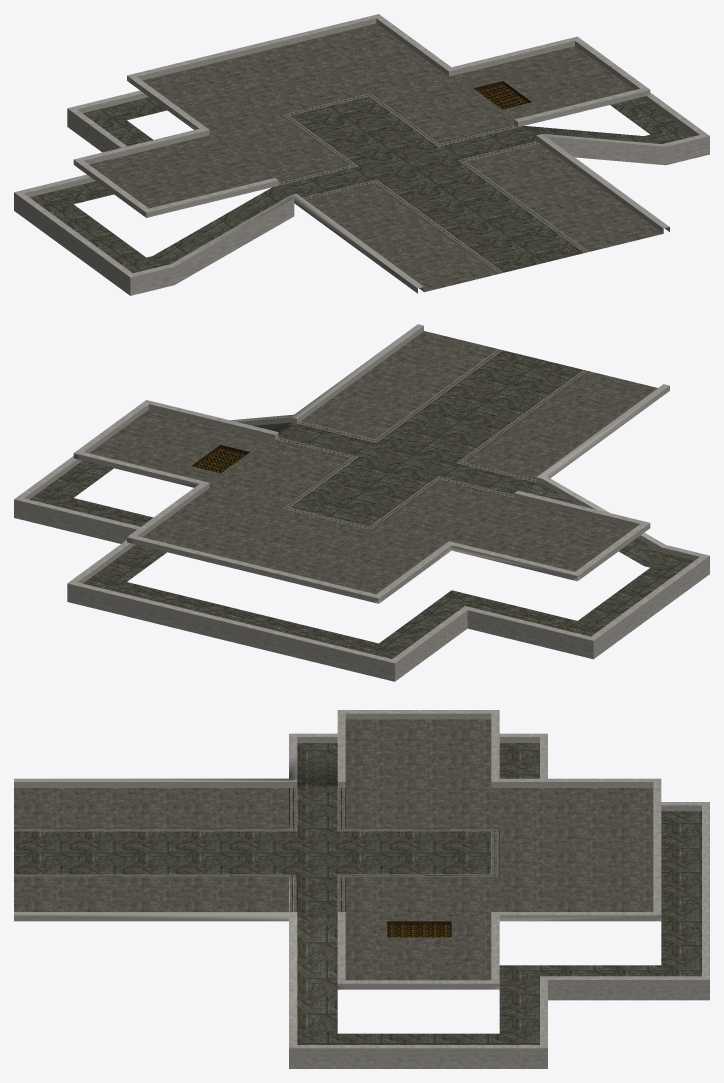
File: DWARF_PALACE_FORGE ROOM_FLOOR01A.fbx
3 views of the same model, one above another, from view 1: azimuth 30°, elevation 25°; view 2: azimuth 150°, elevation 25°; view 3: azimuth 270°, elevation 25° (orthographic). The views are drawn at different scales.
Parts seen in each view (by area): view 1: DWARF_PALACE_FORGE ROOM_FLOOR01A; view 2: DWARF_PALACE_FORGE ROOM_FLOOR01A; view 3: DWARF_PALACE_FORGE ROOM_FLOOR01A.
Part boxes in pixels (<box>): DWARF_PALACE_FORGE ROOM_FLOOR01A: <box>14,14,709,295</box>; DWARF_PALACE_FORGE ROOM_FLOOR01A: <box>14,324,709,681</box>; DWARF_PALACE_FORGE ROOM_FLOOR01A: <box>14,710,709,1068</box>.
Bounding box in the file's own units: 460000 × 44000 × 430000.
Materials: 8 (8 with a texture image).
